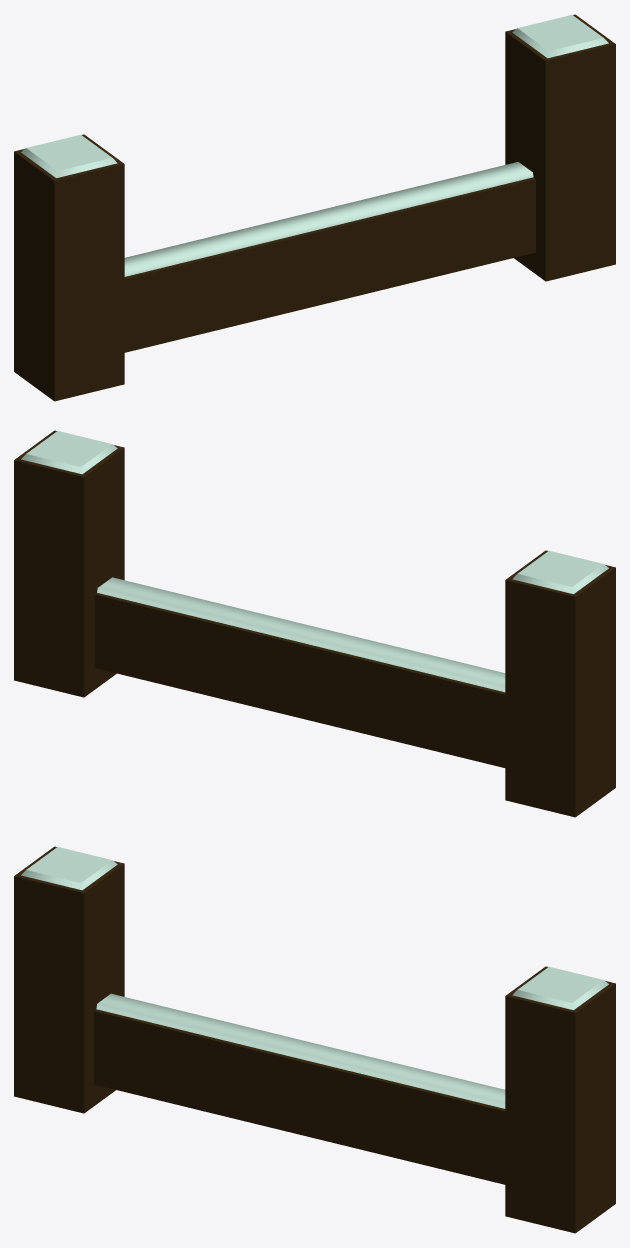
File: winter-ladder-extra.glb
3 renders of one model, top to bottom at view 1: azimuth 30°, elevation 25°; view 2: azimuth 150°, elevation 25°; view 3: azimuth 330°, elevation 25°, orthographic.
Visible parts, largest first — view 1: WinterLadderExtra; view 2: WinterLadderExtra; view 3: WinterLadderExtra.
Boxes of the visible parts, <box> form: WinterLadderExtra: <box>14,14,615,401</box>; WinterLadderExtra: <box>14,430,615,817</box>; WinterLadderExtra: <box>14,846,615,1233</box>.
Size of the model in its own units: 160 by 61.33 by 20.
Materials: 1 (1 with a texture image).
